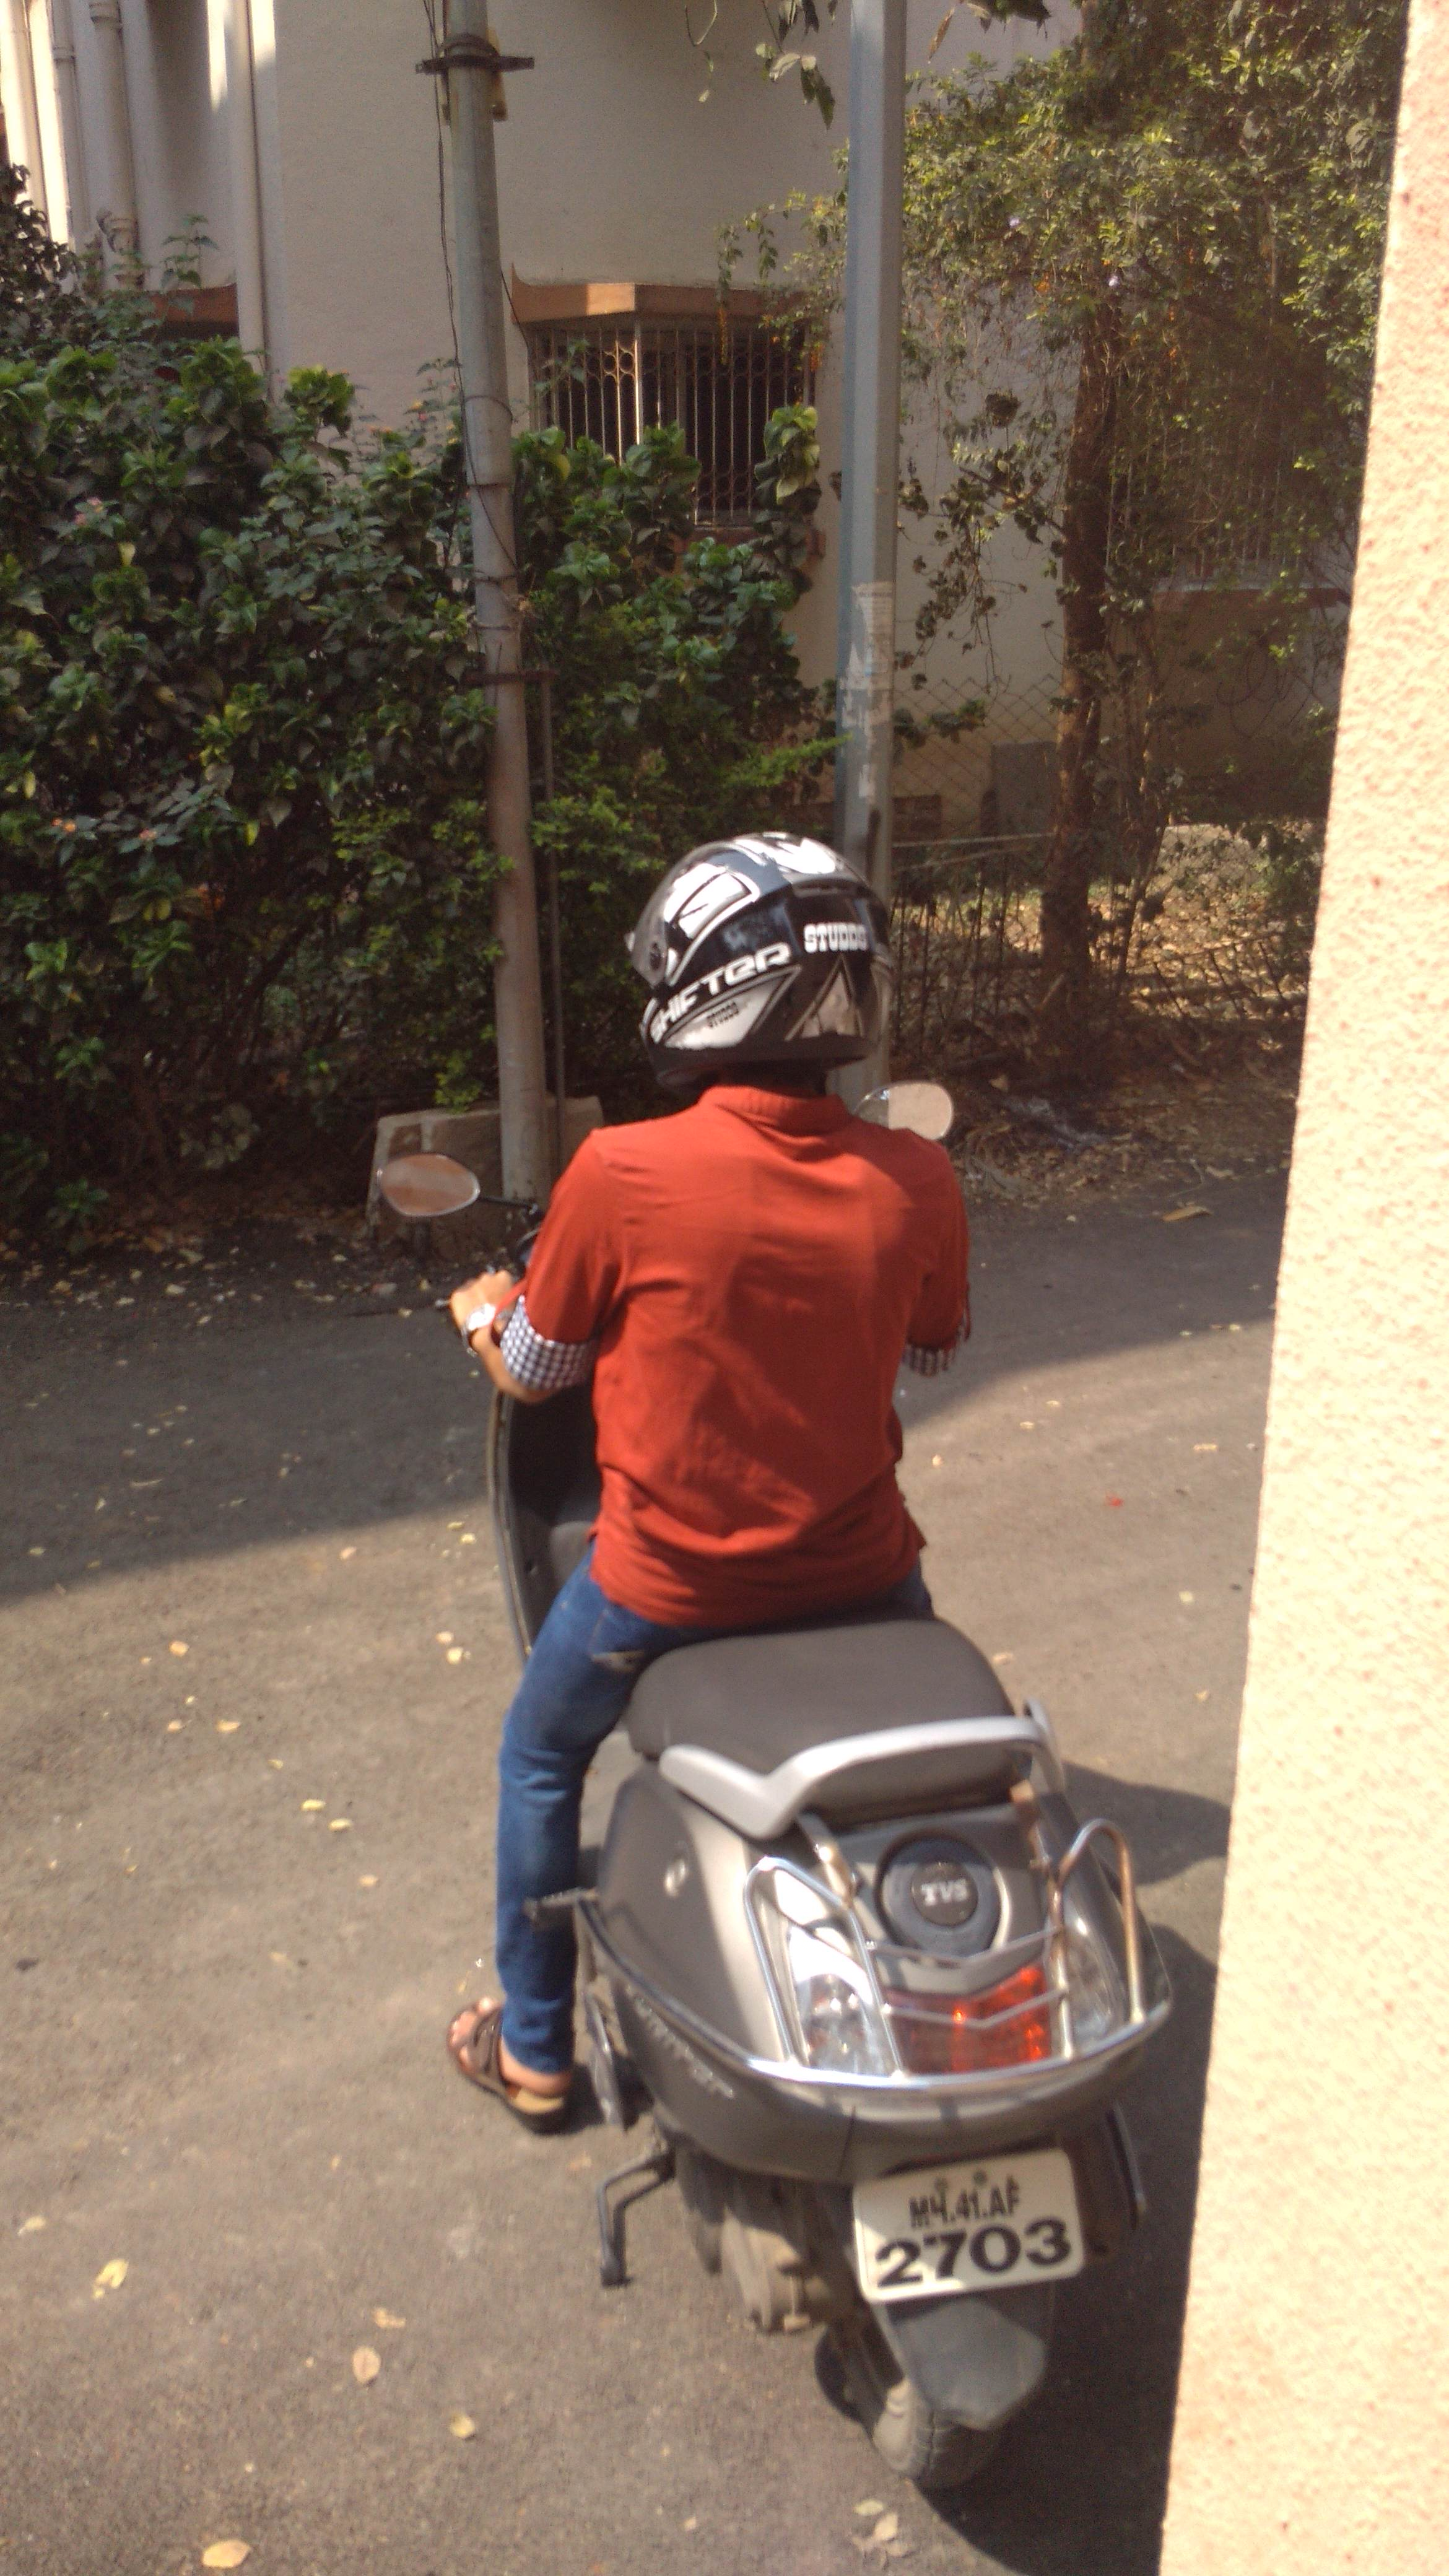helmet: (522, 801, 1026, 1638)
